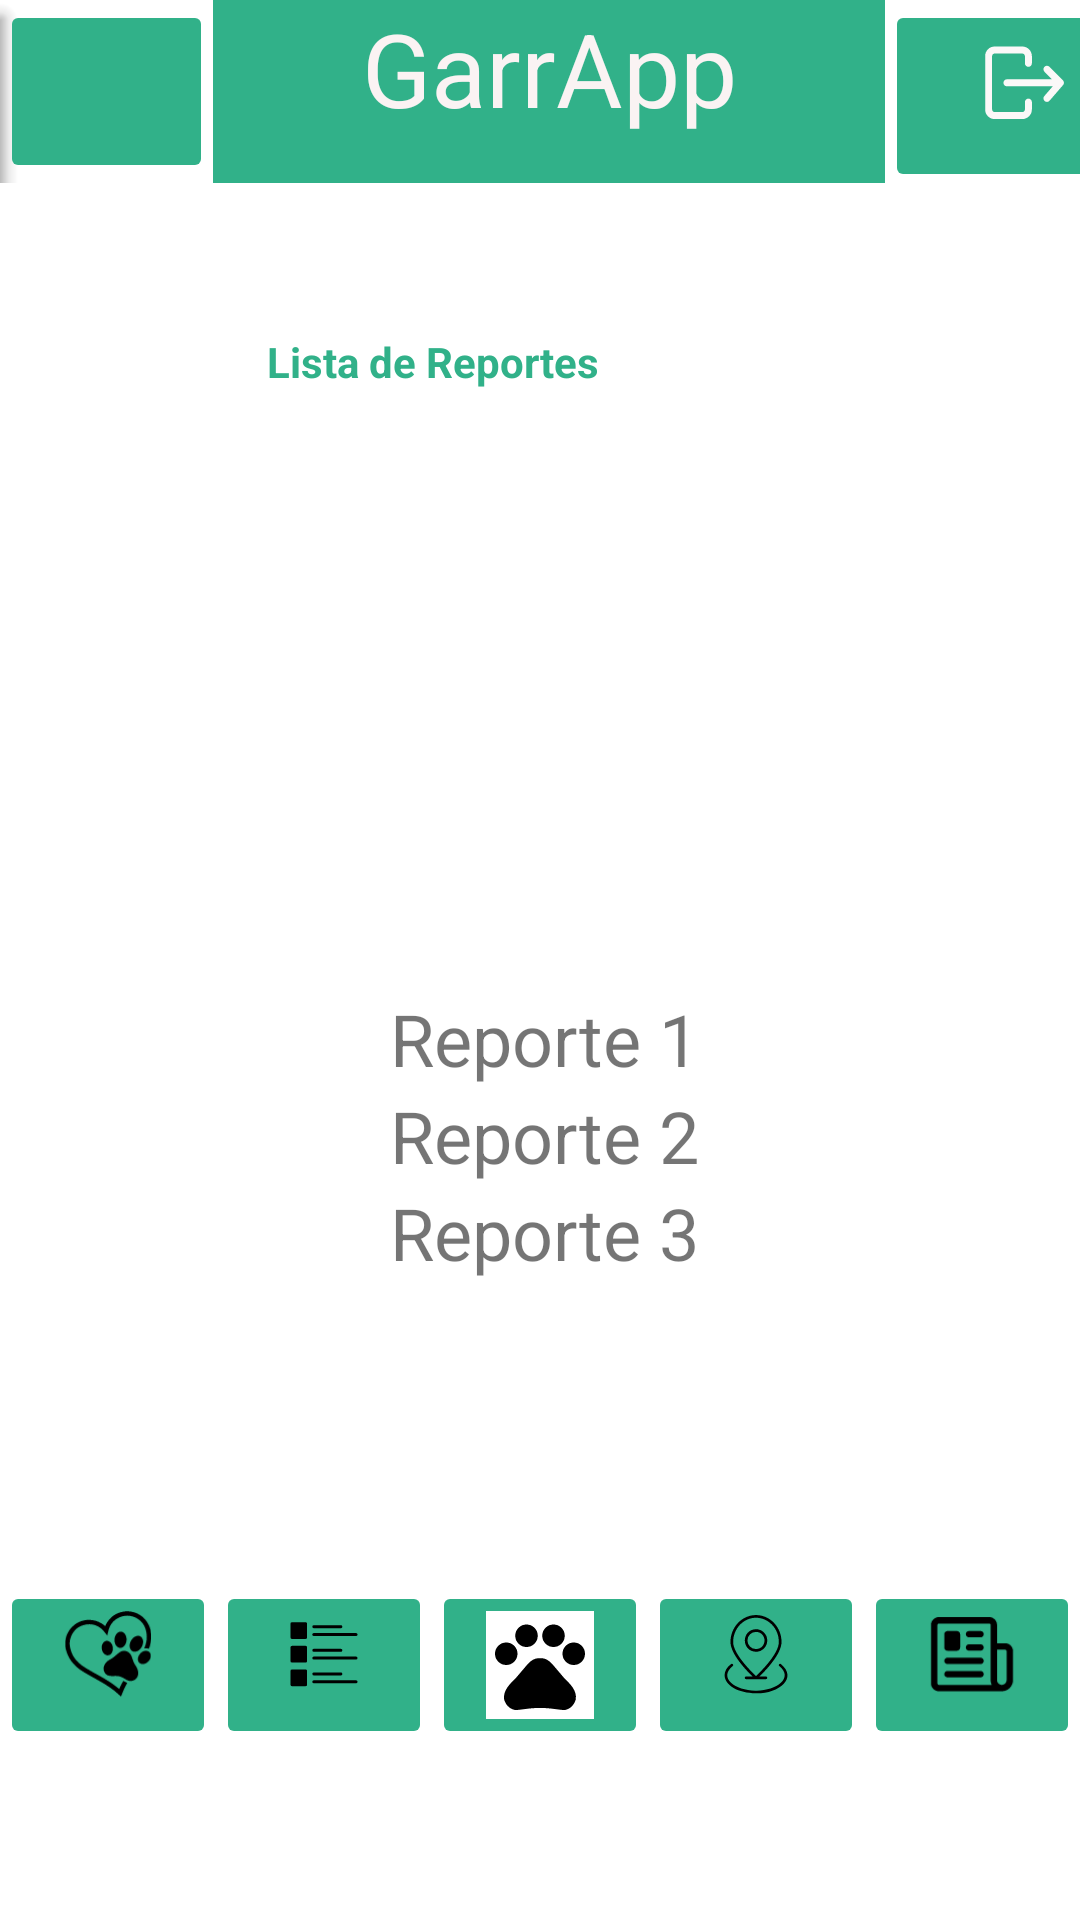

Icons on this 1080×1920 Android screen, each with its box as (x1, y1, x2, y2):
barrainferiorgarra: (444, 1599, 636, 1731)
barrainferiormapas: (660, 1599, 852, 1731)
